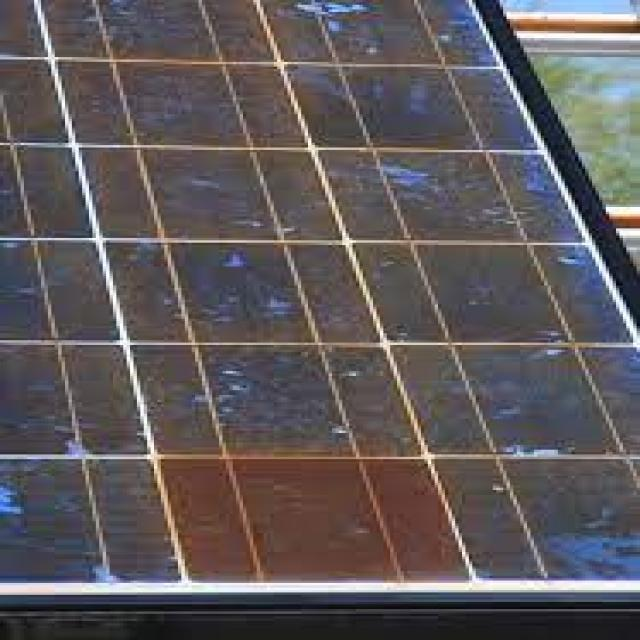faulty: (0, 5, 631, 584)
